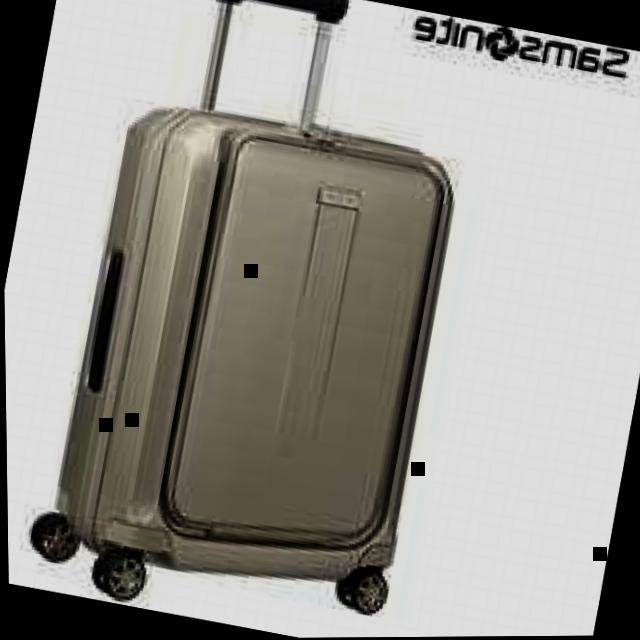luggage: (7, 71, 479, 640)
